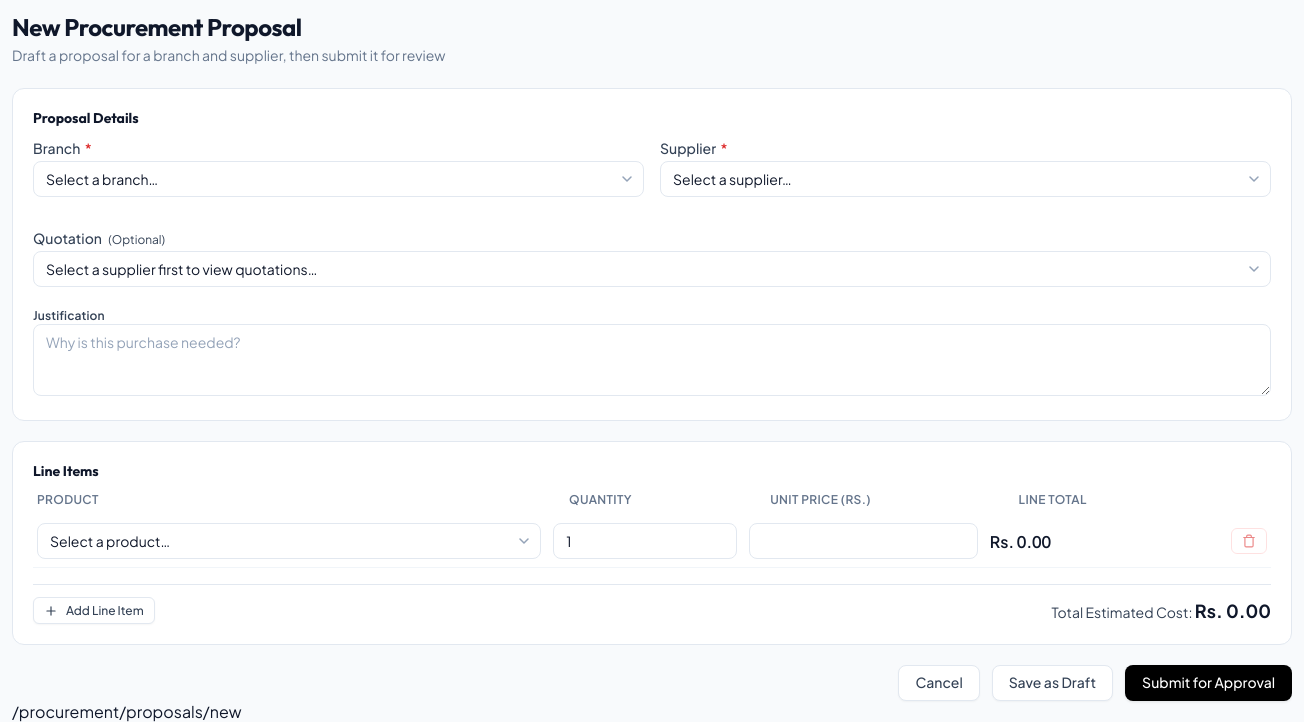
Test: NewProposalForm validation › rejects a negative unit price
This screenshot has width=1304, height=722.
Select "Colombo Central (COL-01)" in the dropdown labelled "Branch *" at coordinates (338, 179), box top-left (33, 161), bottom-right (644, 197)
Select "Lanka Stationery Distributors" in the dropdown labelled "Supplier *" at coordinates (966, 179), box top-left (660, 161), bottom-right (1271, 197)
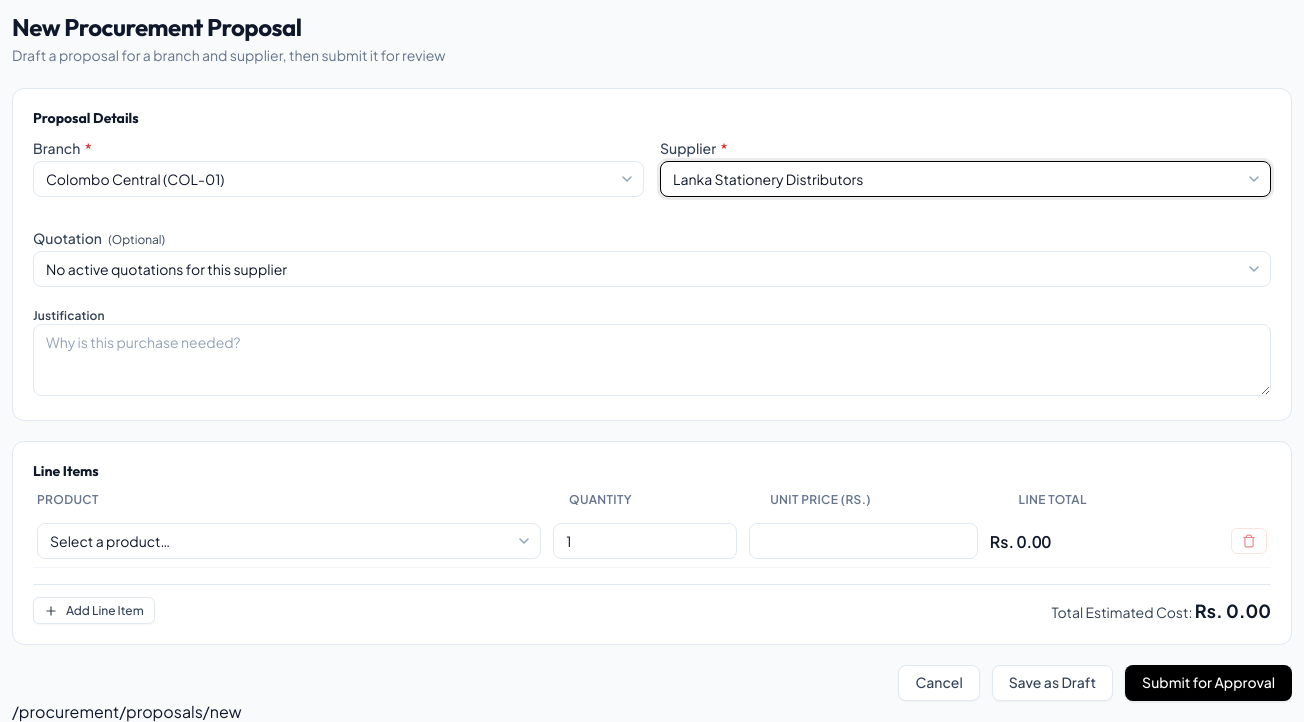
Select "Copy Paper A4 (PPR-A4)" in the dropdown named "Product" at coordinates (289, 541), box top-left (37, 523), bottom-right (541, 559)
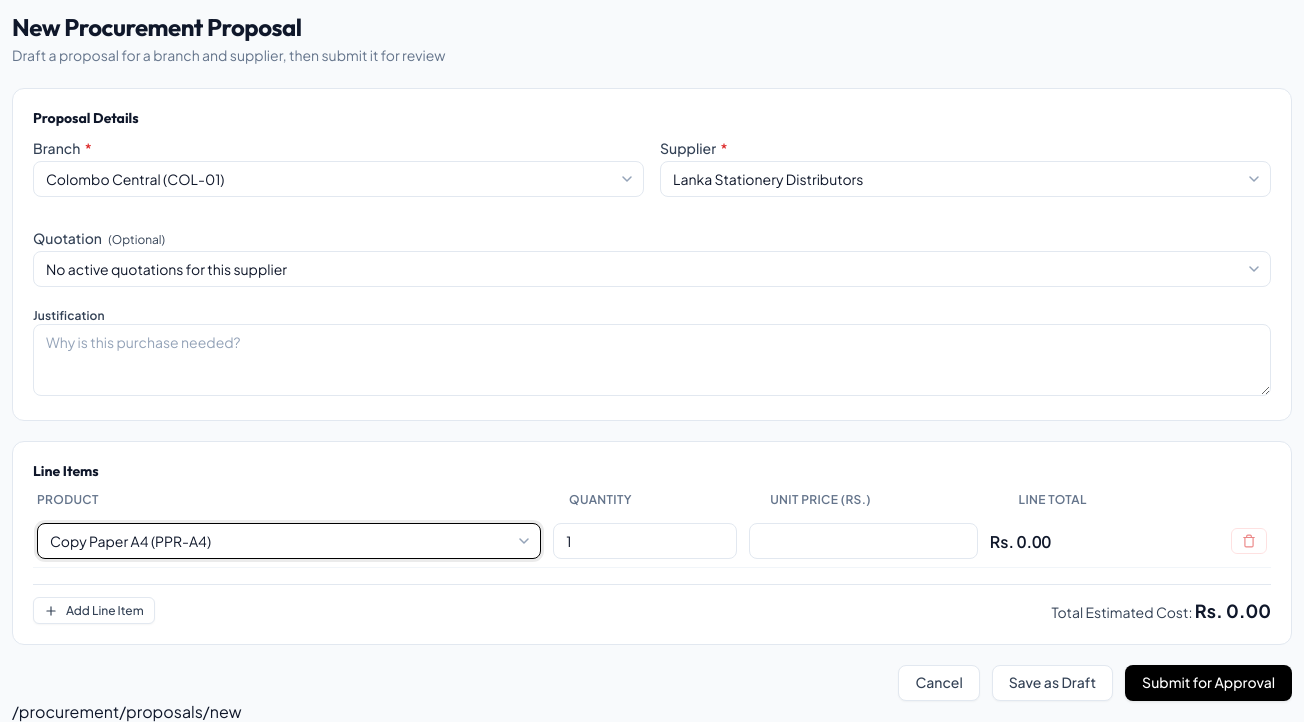
Replace the text in the 1st number field with "12" at coordinates (645, 541), box top-left (553, 523), bottom-right (737, 559)
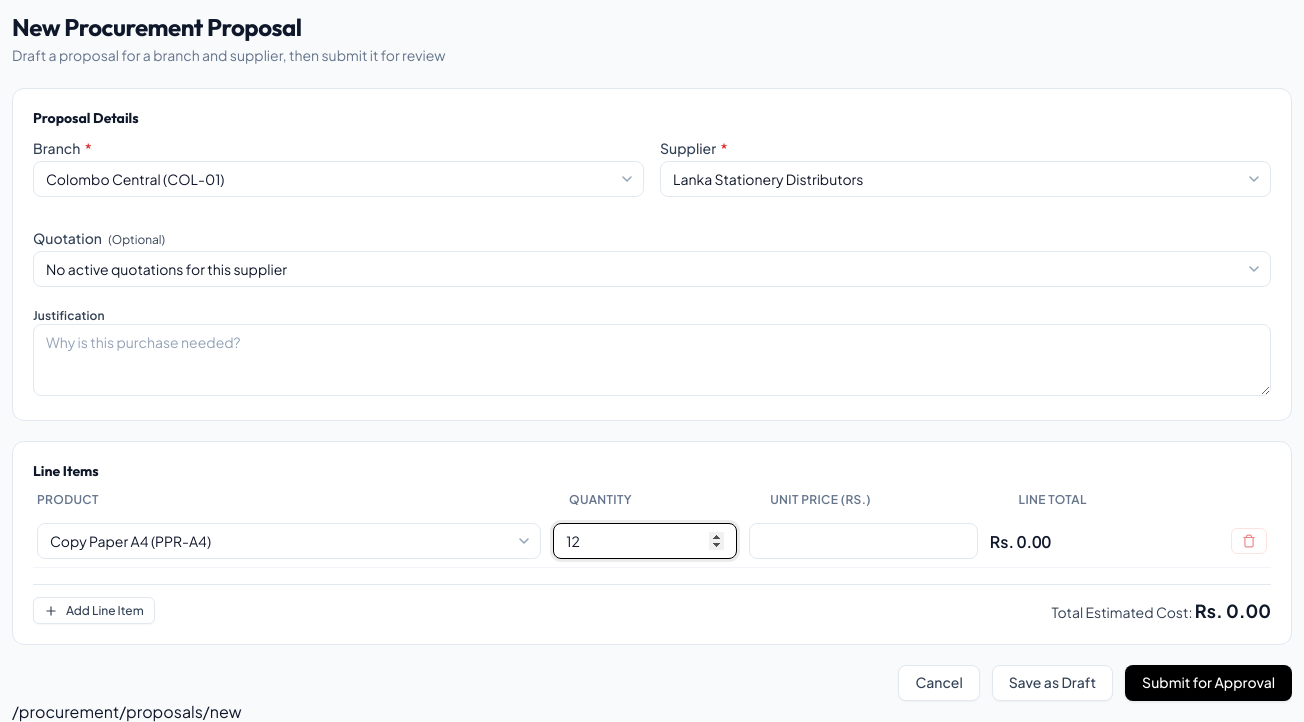
Type "499.5" into the 2nd number field.
click(863, 541); type("499.5")  # box top-left (749, 523), bottom-right (978, 559)
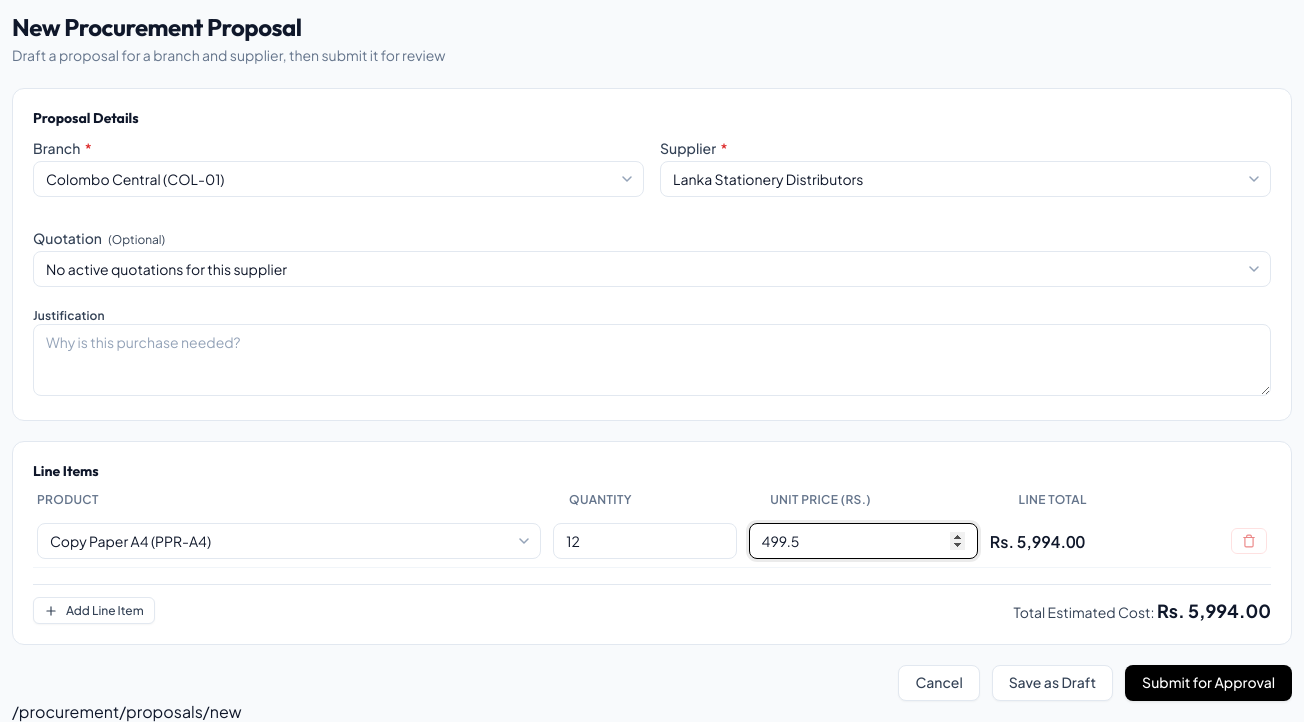
Replace the text in the 2nd number field with "-1" at coordinates (863, 541), box top-left (749, 523), bottom-right (978, 559)
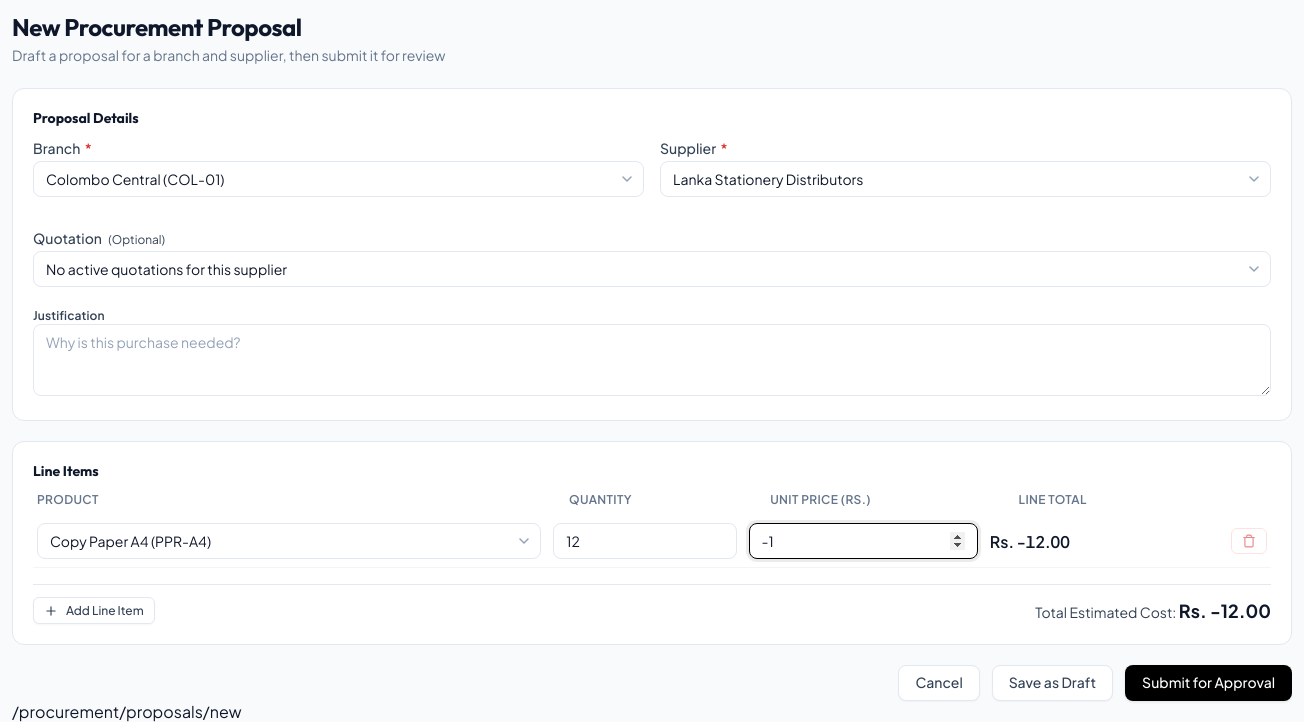
Click the button "Submit for Approval".
click(1209, 683)  # box top-left (1125, 665), bottom-right (1292, 700)
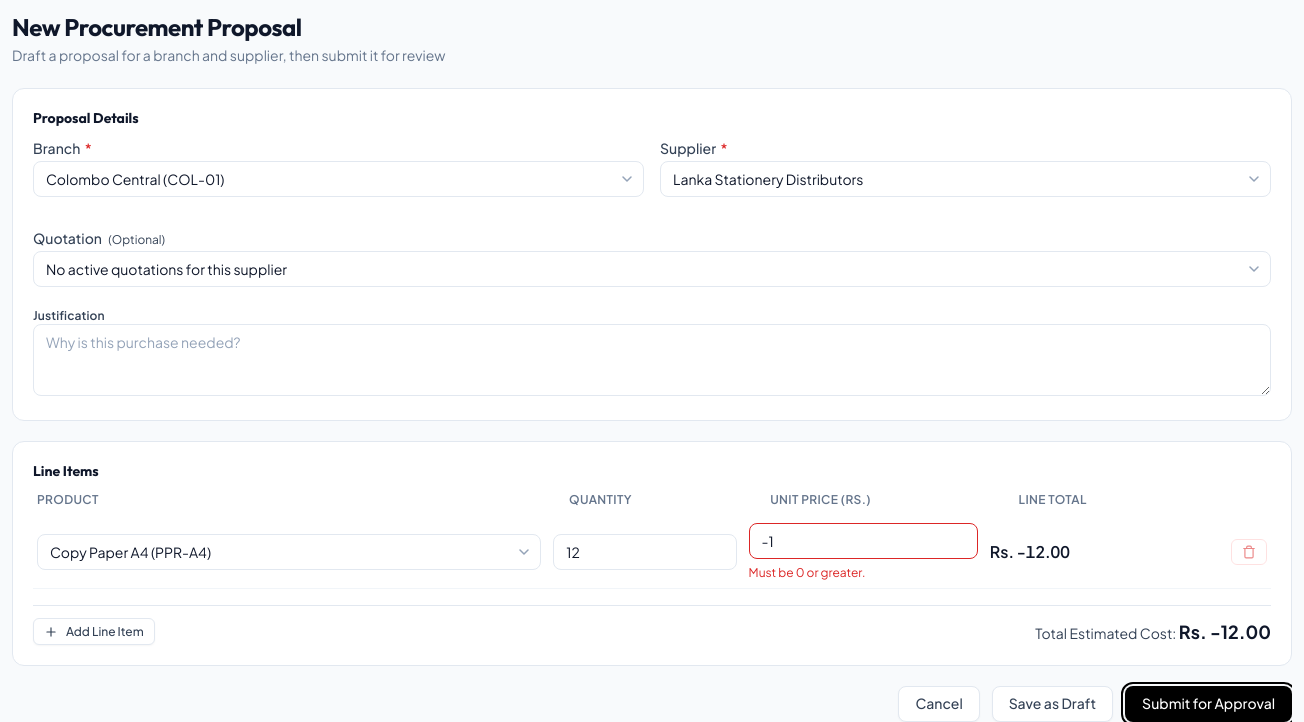
Now the text "Must be 0 or greater." is shown, box top-left (749, 565), bottom-right (865, 580)
